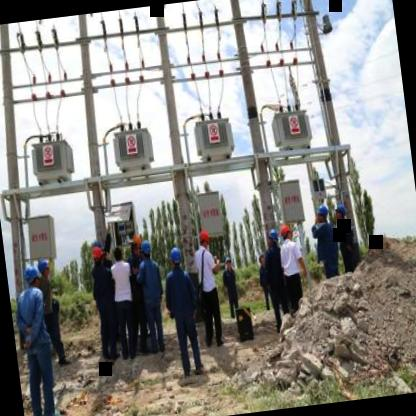helmet: (21, 263, 44, 292), (313, 198, 332, 226), (165, 242, 182, 272), (332, 199, 350, 225), (264, 226, 284, 249), (36, 253, 52, 279), (278, 220, 295, 242), (195, 226, 210, 250), (90, 243, 105, 266), (138, 238, 154, 259)
